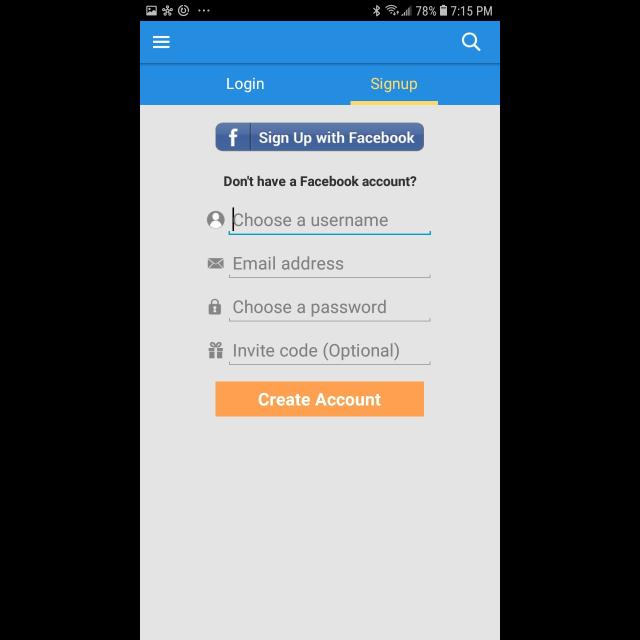icon: (462, 32, 481, 52), (207, 211, 225, 229), (208, 342, 224, 358), (208, 299, 222, 315), (154, 36, 170, 49), (208, 258, 224, 268)
input: (228, 207, 432, 236), (229, 342, 431, 366), (229, 256, 431, 278), (230, 300, 430, 322)
text: (233, 343, 399, 361), (234, 300, 386, 318), (234, 213, 388, 227), (224, 176, 416, 187), (234, 256, 344, 270), (370, 78, 418, 92), (228, 78, 264, 94)
textbutton: (216, 382, 424, 416), (216, 122, 424, 152)
uppertaskbar: (140, 1, 500, 22)
